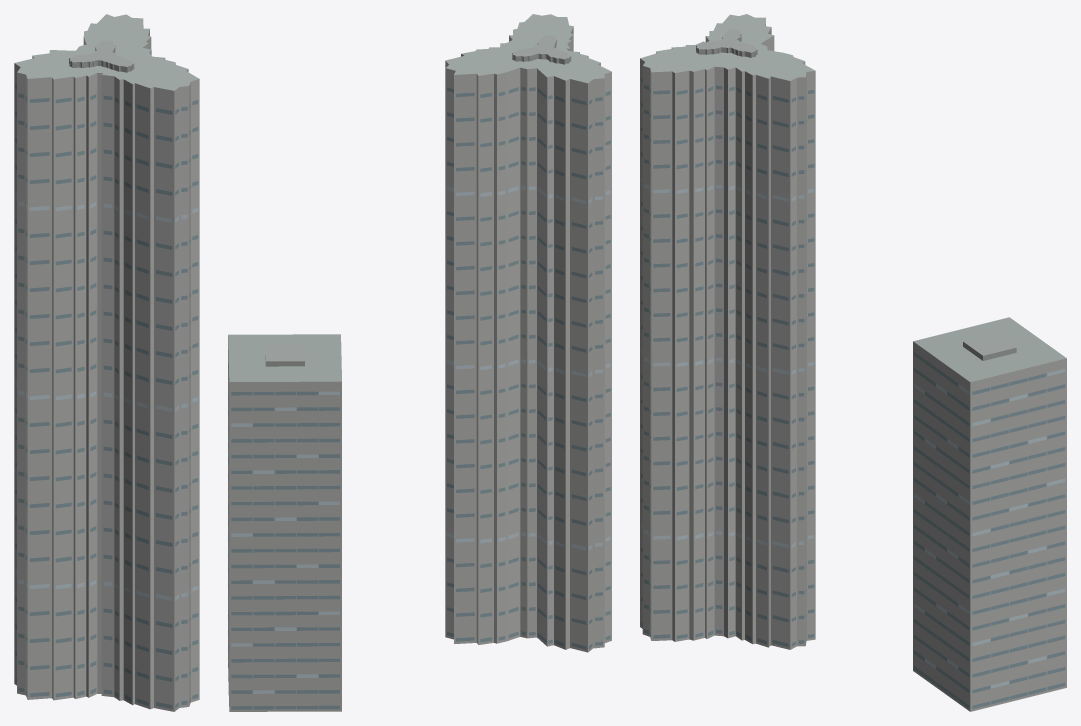
Rendered from apt-a13585403.glb.
The picture shows the model from 3 angles, left to right: view 1: azimuth 30°, elevation 25°; view 2: azimuth 150°, elevation 25°; view 3: azimuth 270°, elevation 25°; orthographic projection. The views are drawn at different scales.
Parts seen in each view (by area): view 1: apt-a13585403; view 2: apt-a13585403; view 3: apt-a13585403.
Boxes of the visible parts, box(x1,y1,x2,y2) form: apt-a13585403: box(14, 14, 199, 711); apt-a13585403: box(228, 14, 611, 711); apt-a13585403: box(640, 14, 1066, 711).
Size of the model in its own units: 127 by 264 by 178.
